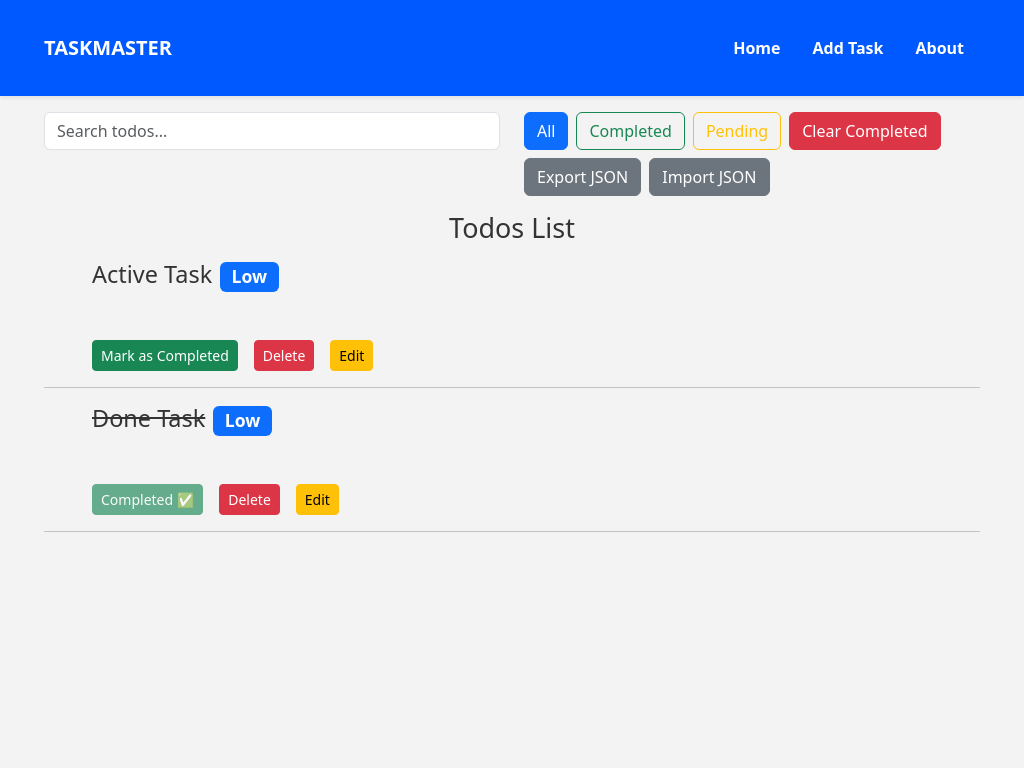
Test: App – Filtering › shows all todos again after switching back to All
Click the button "Completed" at (631, 131), box 576,112 -> 685,150
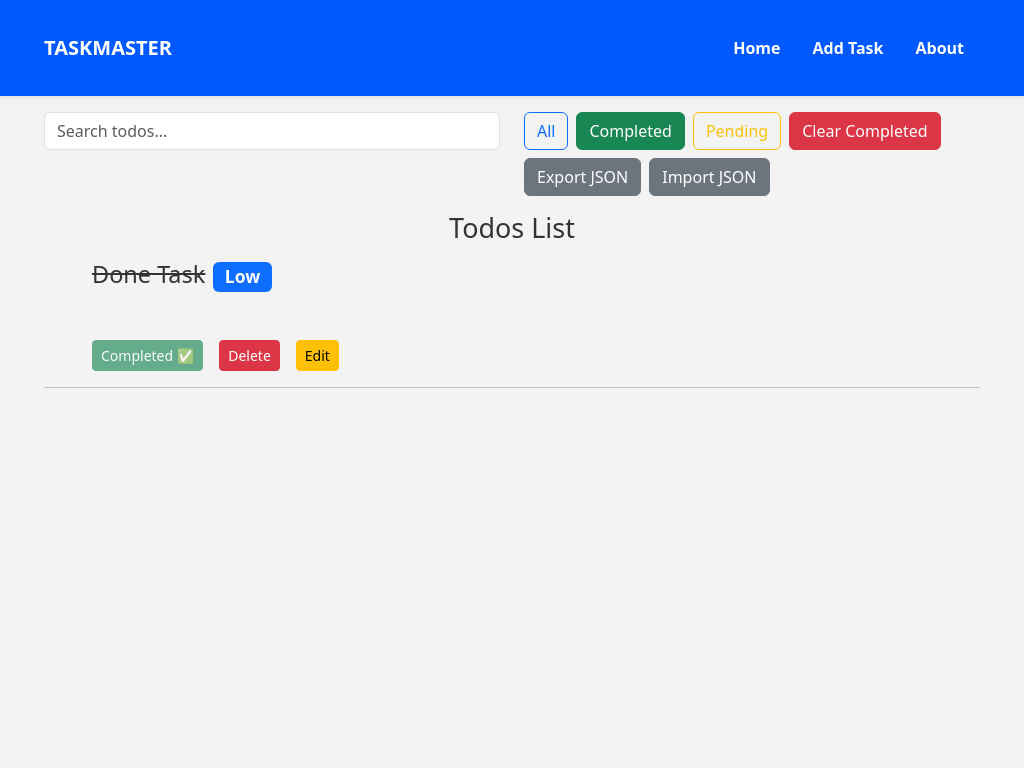
Click the button "All" at (546, 131), box 524,112 -> 568,150
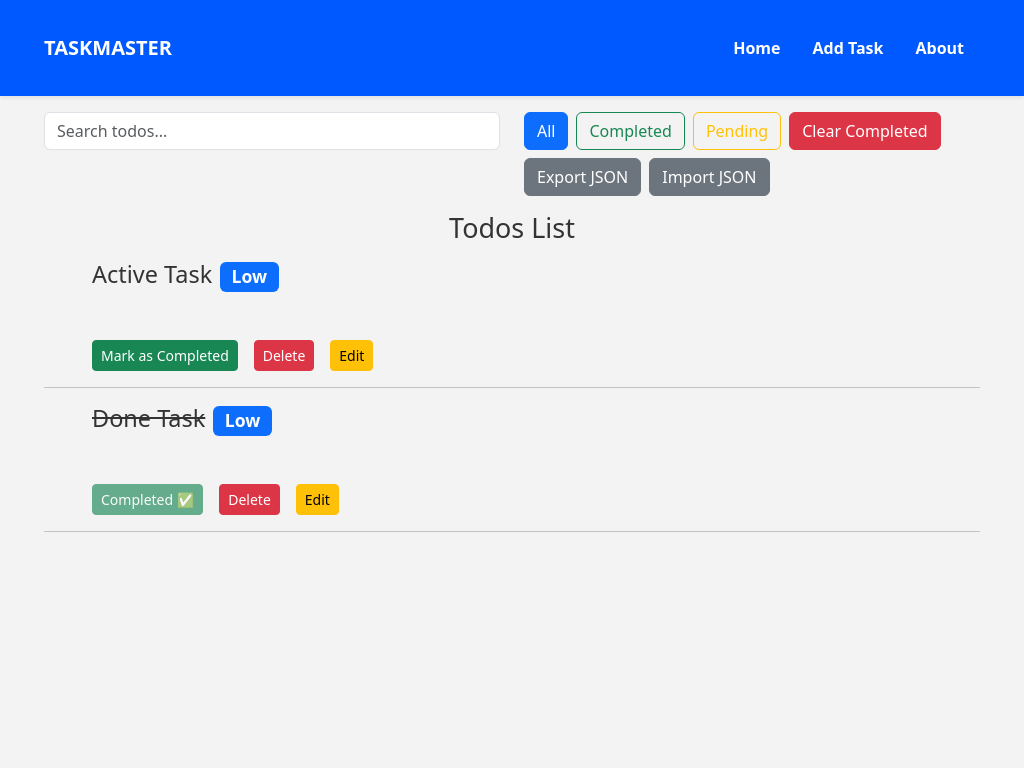
Expected: the heading "Done Task Low" is shown, 92,402 -> 272,436
Now the heading "Active Task Low" is shown, box 92,258 -> 279,292
